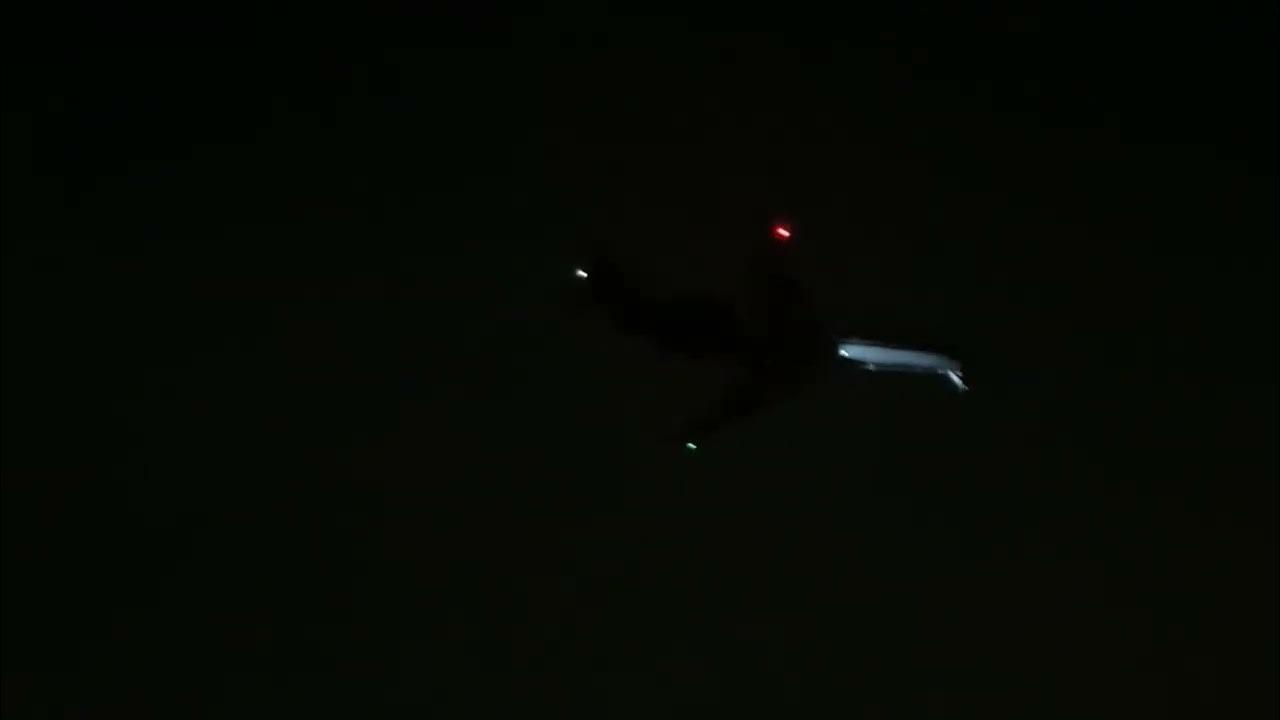Plane: (507, 198, 1038, 488)
